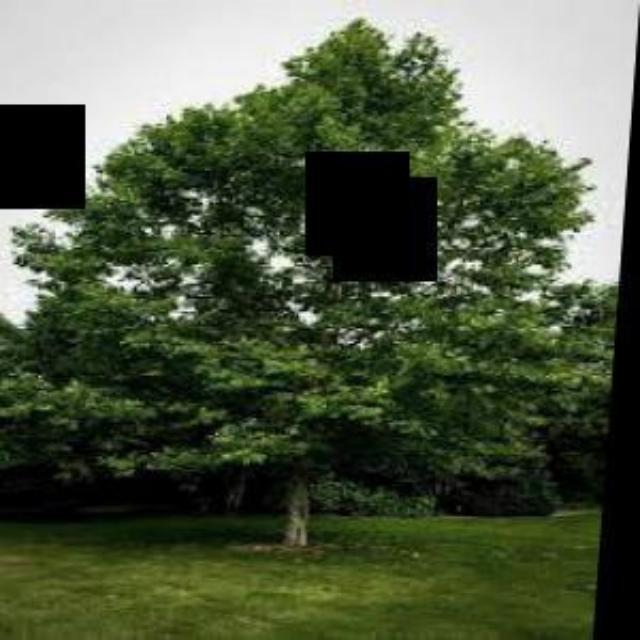tree: (0, 16, 608, 548)
